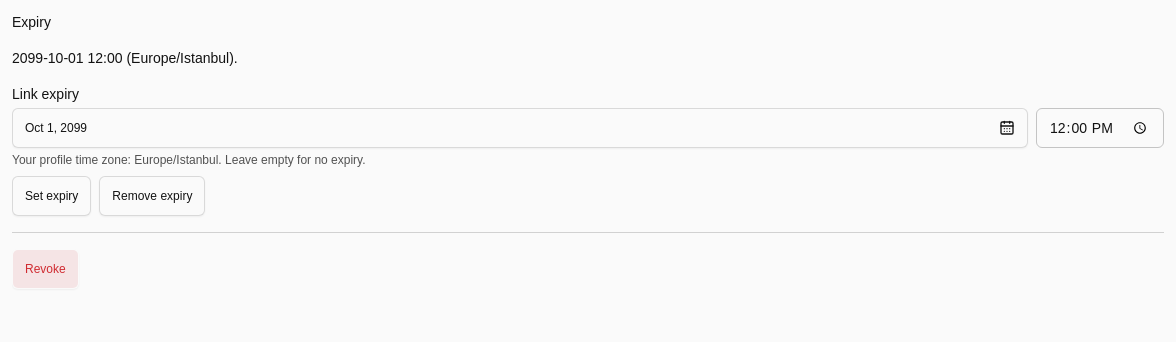
Share lifecycle panel › an active link with an expiry shows it in the profile time zone and can remove it
The image size is (1176, 342).
Click the button "Remove expiry" at (152, 196), box [99,176,205,216]
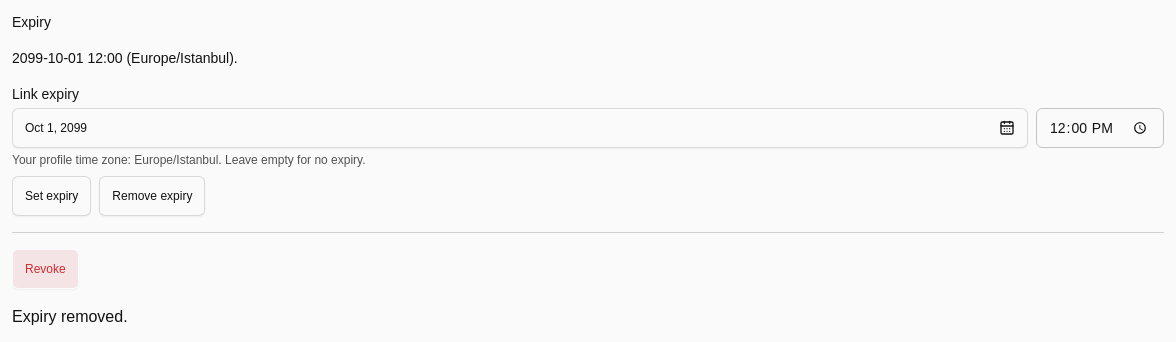
Now the message "Expiry removed." is shown, box [12,308,128,325]
